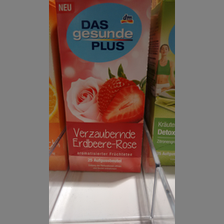tea: (55, 1, 152, 174)
